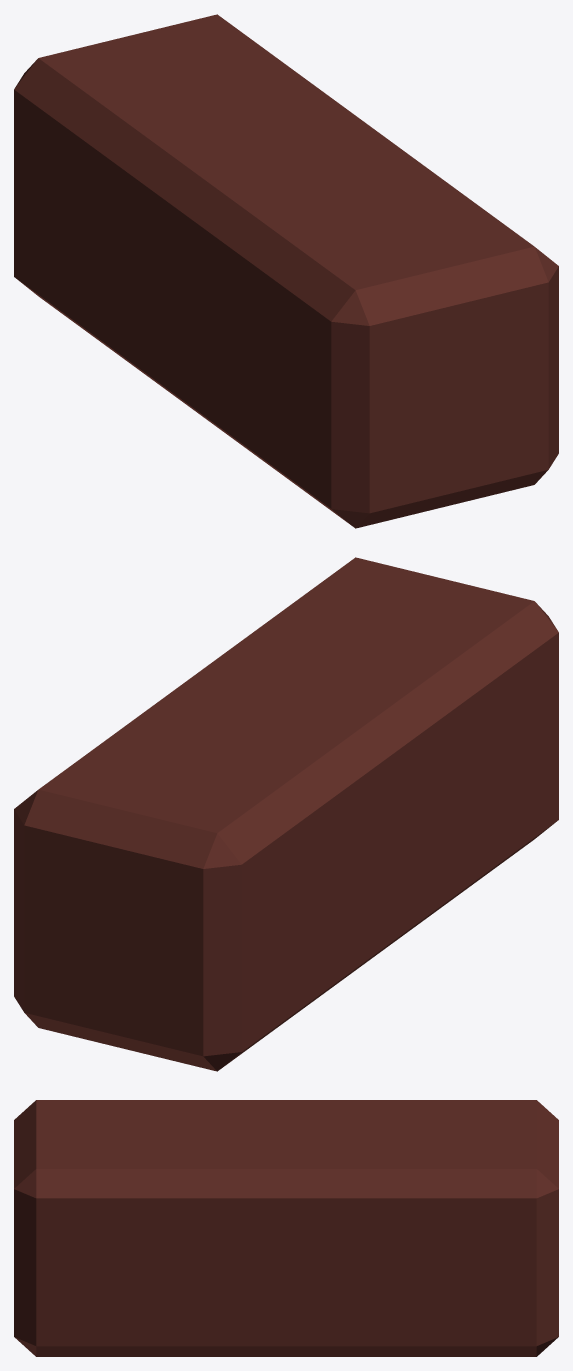
Rendered from brick.gltf.
3 renders of one model, top to bottom at view 1: azimuth 30°, elevation 25°; view 2: azimuth 150°, elevation 25°; view 3: azimuth 270°, elevation 25°, orthographic. The views are drawn at different scales.
Visible parts, largest first — view 1: brick; view 2: brick; view 3: brick.
Boxes of the visible parts, x1=… form: brick: x1=14, y1=14, x2=558, y2=528; brick: x1=14, y1=557, x2=558, y2=1071; brick: x1=14, y1=1100, x2=558, y2=1356.
Size of the model in its own units: 0.2 by 0.2 by 0.5254.
